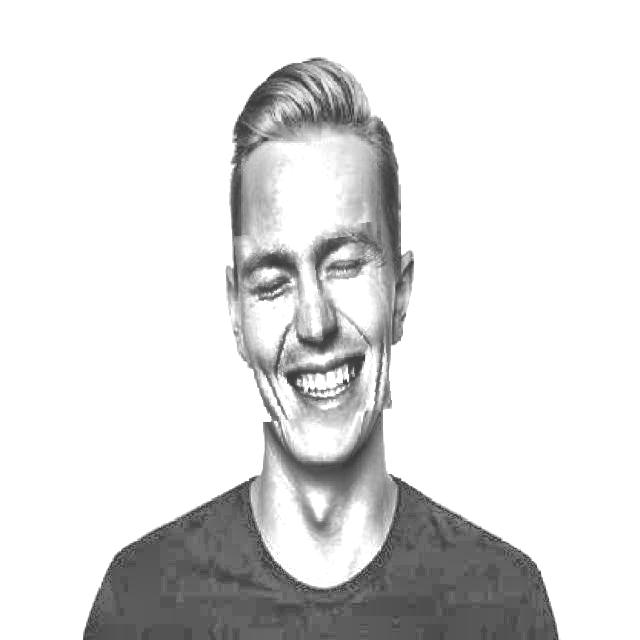happy: (238, 226, 388, 420)
